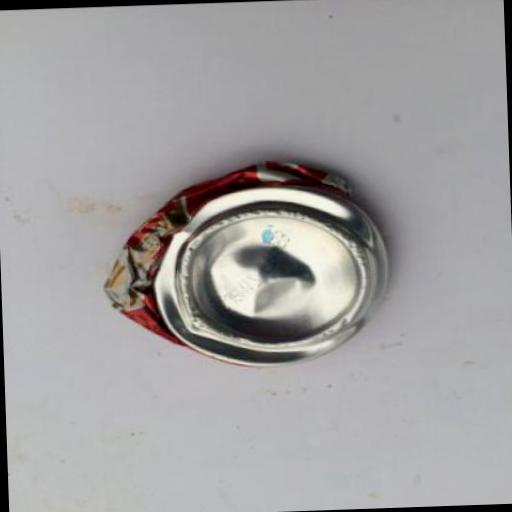metal: (101, 156, 395, 374)
